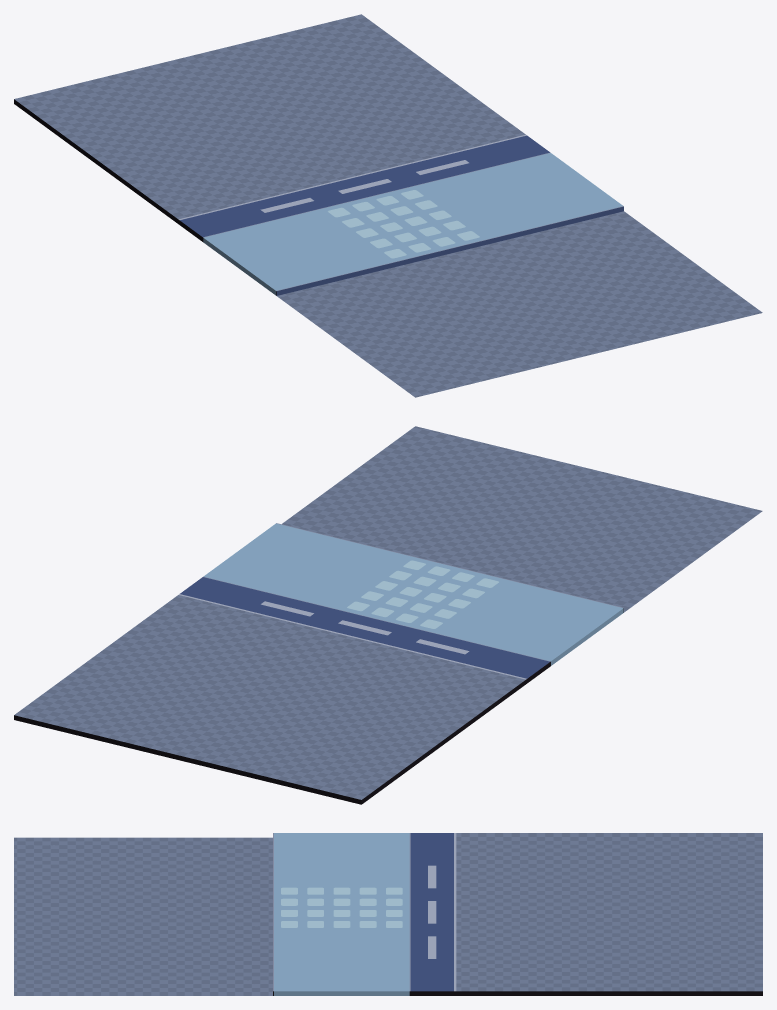
The model's file is Platform.fbx.
The picture shows the model from 3 angles, top to bottom: view 1: azimuth 30°, elevation 25°; view 2: azimuth 150°, elevation 25°; view 3: azimuth 270°, elevation 25°; orthographic projection. The views are drawn at different scales.
Visible parts, largest first — view 1: Plane001; view 2: Plane001; view 3: Plane001.
Boxes of the visible parts, <box> form: Plane001: <box>14,14,762,397</box>; Plane001: <box>14,426,762,804</box>; Plane001: <box>14,833,762,995</box>.
Size of the model in its own units: 400 by 5.27 by 800.
